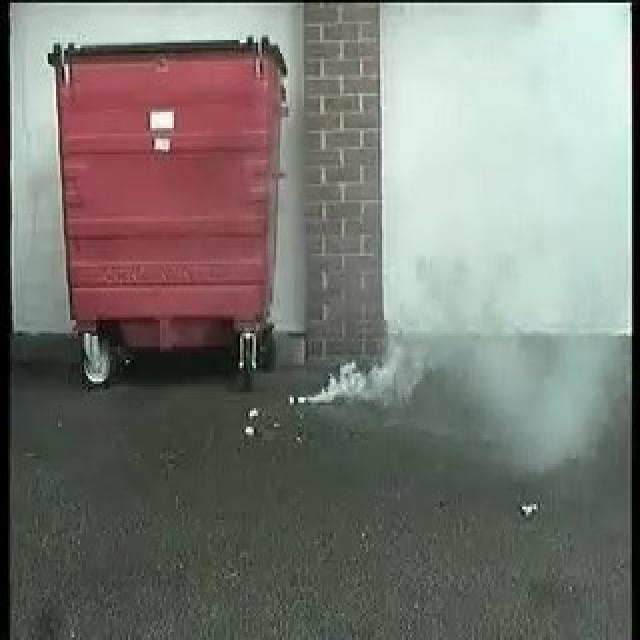smoke: (303, 272, 463, 418)
